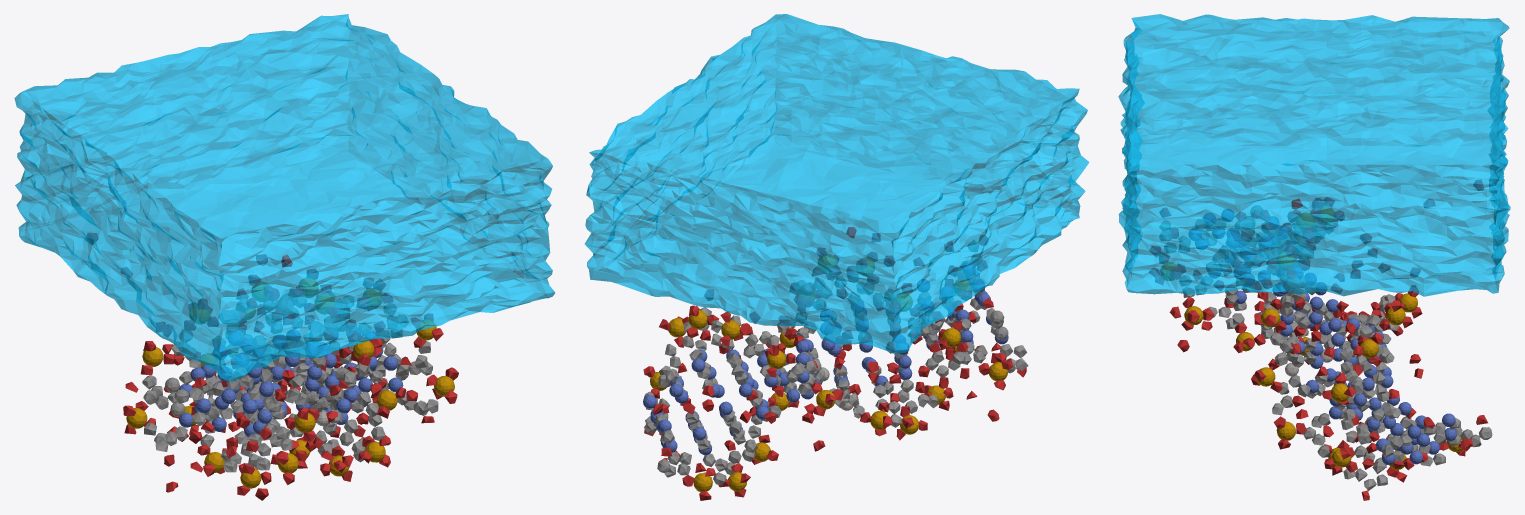
The model's file is liquid.fbx.
3 views of the same model, side by side, from view 1: azimuth 30°, elevation 25°; view 2: azimuth 150°, elevation 25°; view 3: azimuth 270°, elevation 25° (orthographic). The views are drawn at different scales.
Parts seen in each view (by area): view 1: node_id3, node_id132 (×4); view 2: node_id3, node_id132 (×4); view 3: node_id3, node_id132 (×4).
Part boxes in pixels (<box>): node_id3: <box>14,14,555,381</box>; node_id132 (×4): <box>87,233,458,500</box>; node_id3: <box>584,14,1089,353</box>; node_id132 (×4): <box>643,227,1028,500</box>; node_id3: <box>1118,14,1510,296</box>; node_id132 (×4): <box>1149,180,1492,500</box>.
Size of the model in its own units: 0.00531 by 0.00549 by 0.00539.
Materials: 129 (1 with a texture image).
